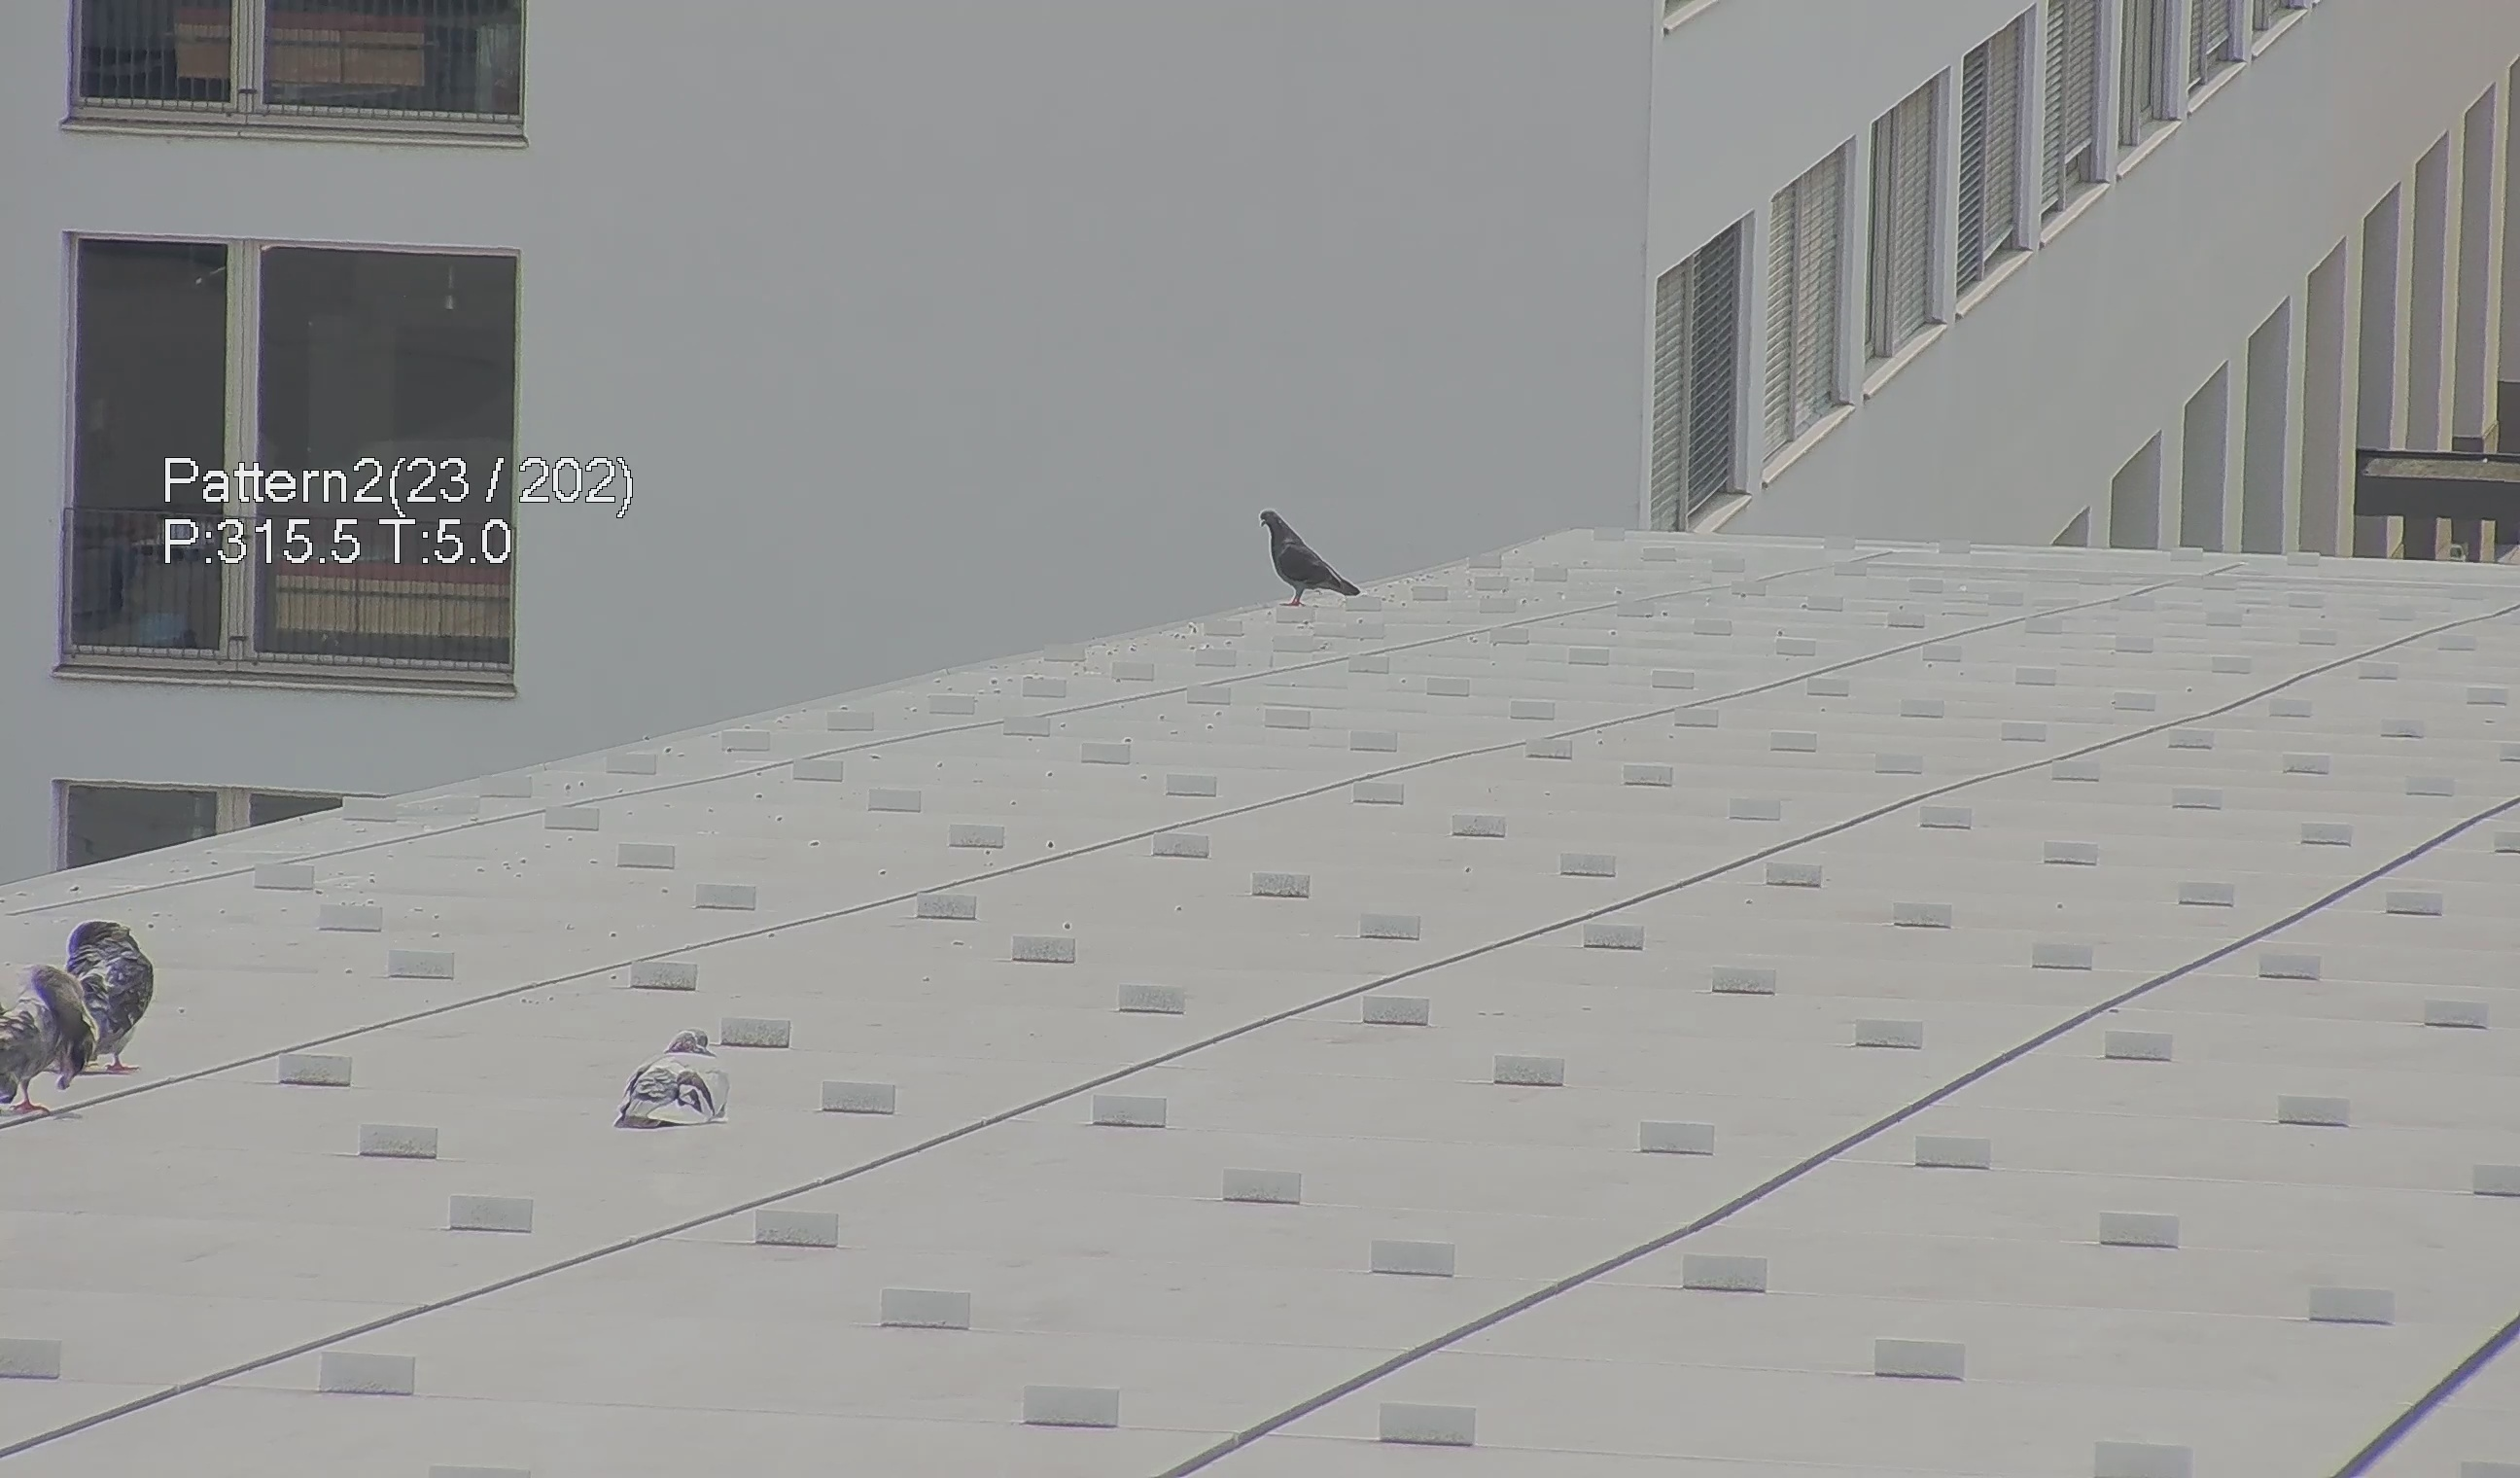Pigeon: (35, 911, 164, 1110), (2, 957, 98, 1128), (623, 1015, 749, 1140), (1257, 498, 1373, 616)
